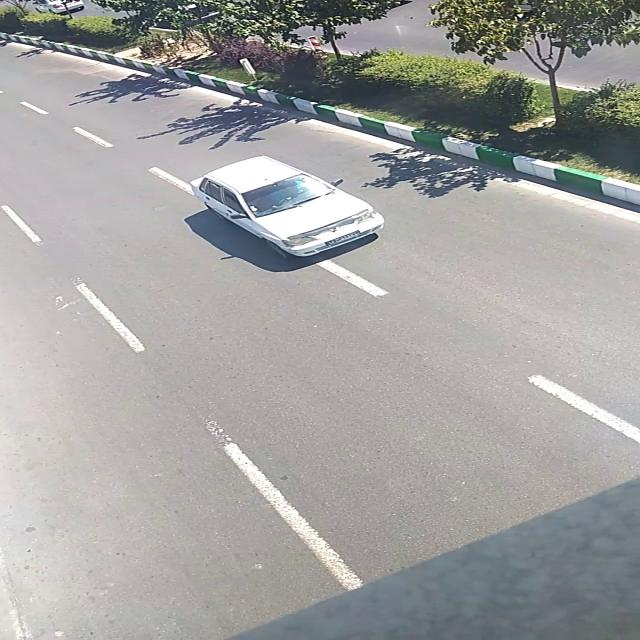car: (190, 155, 383, 257), (33, 0, 84, 12)
